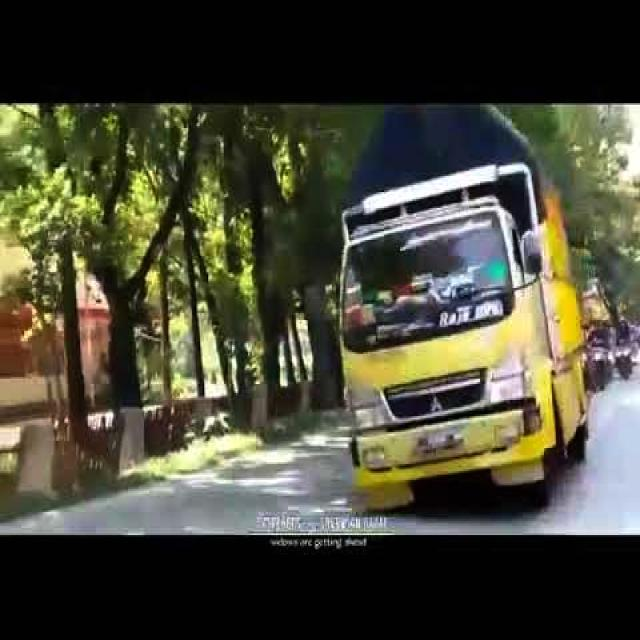truck: (306, 158, 596, 510)
